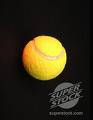tennis ball: (20, 34, 68, 81)
